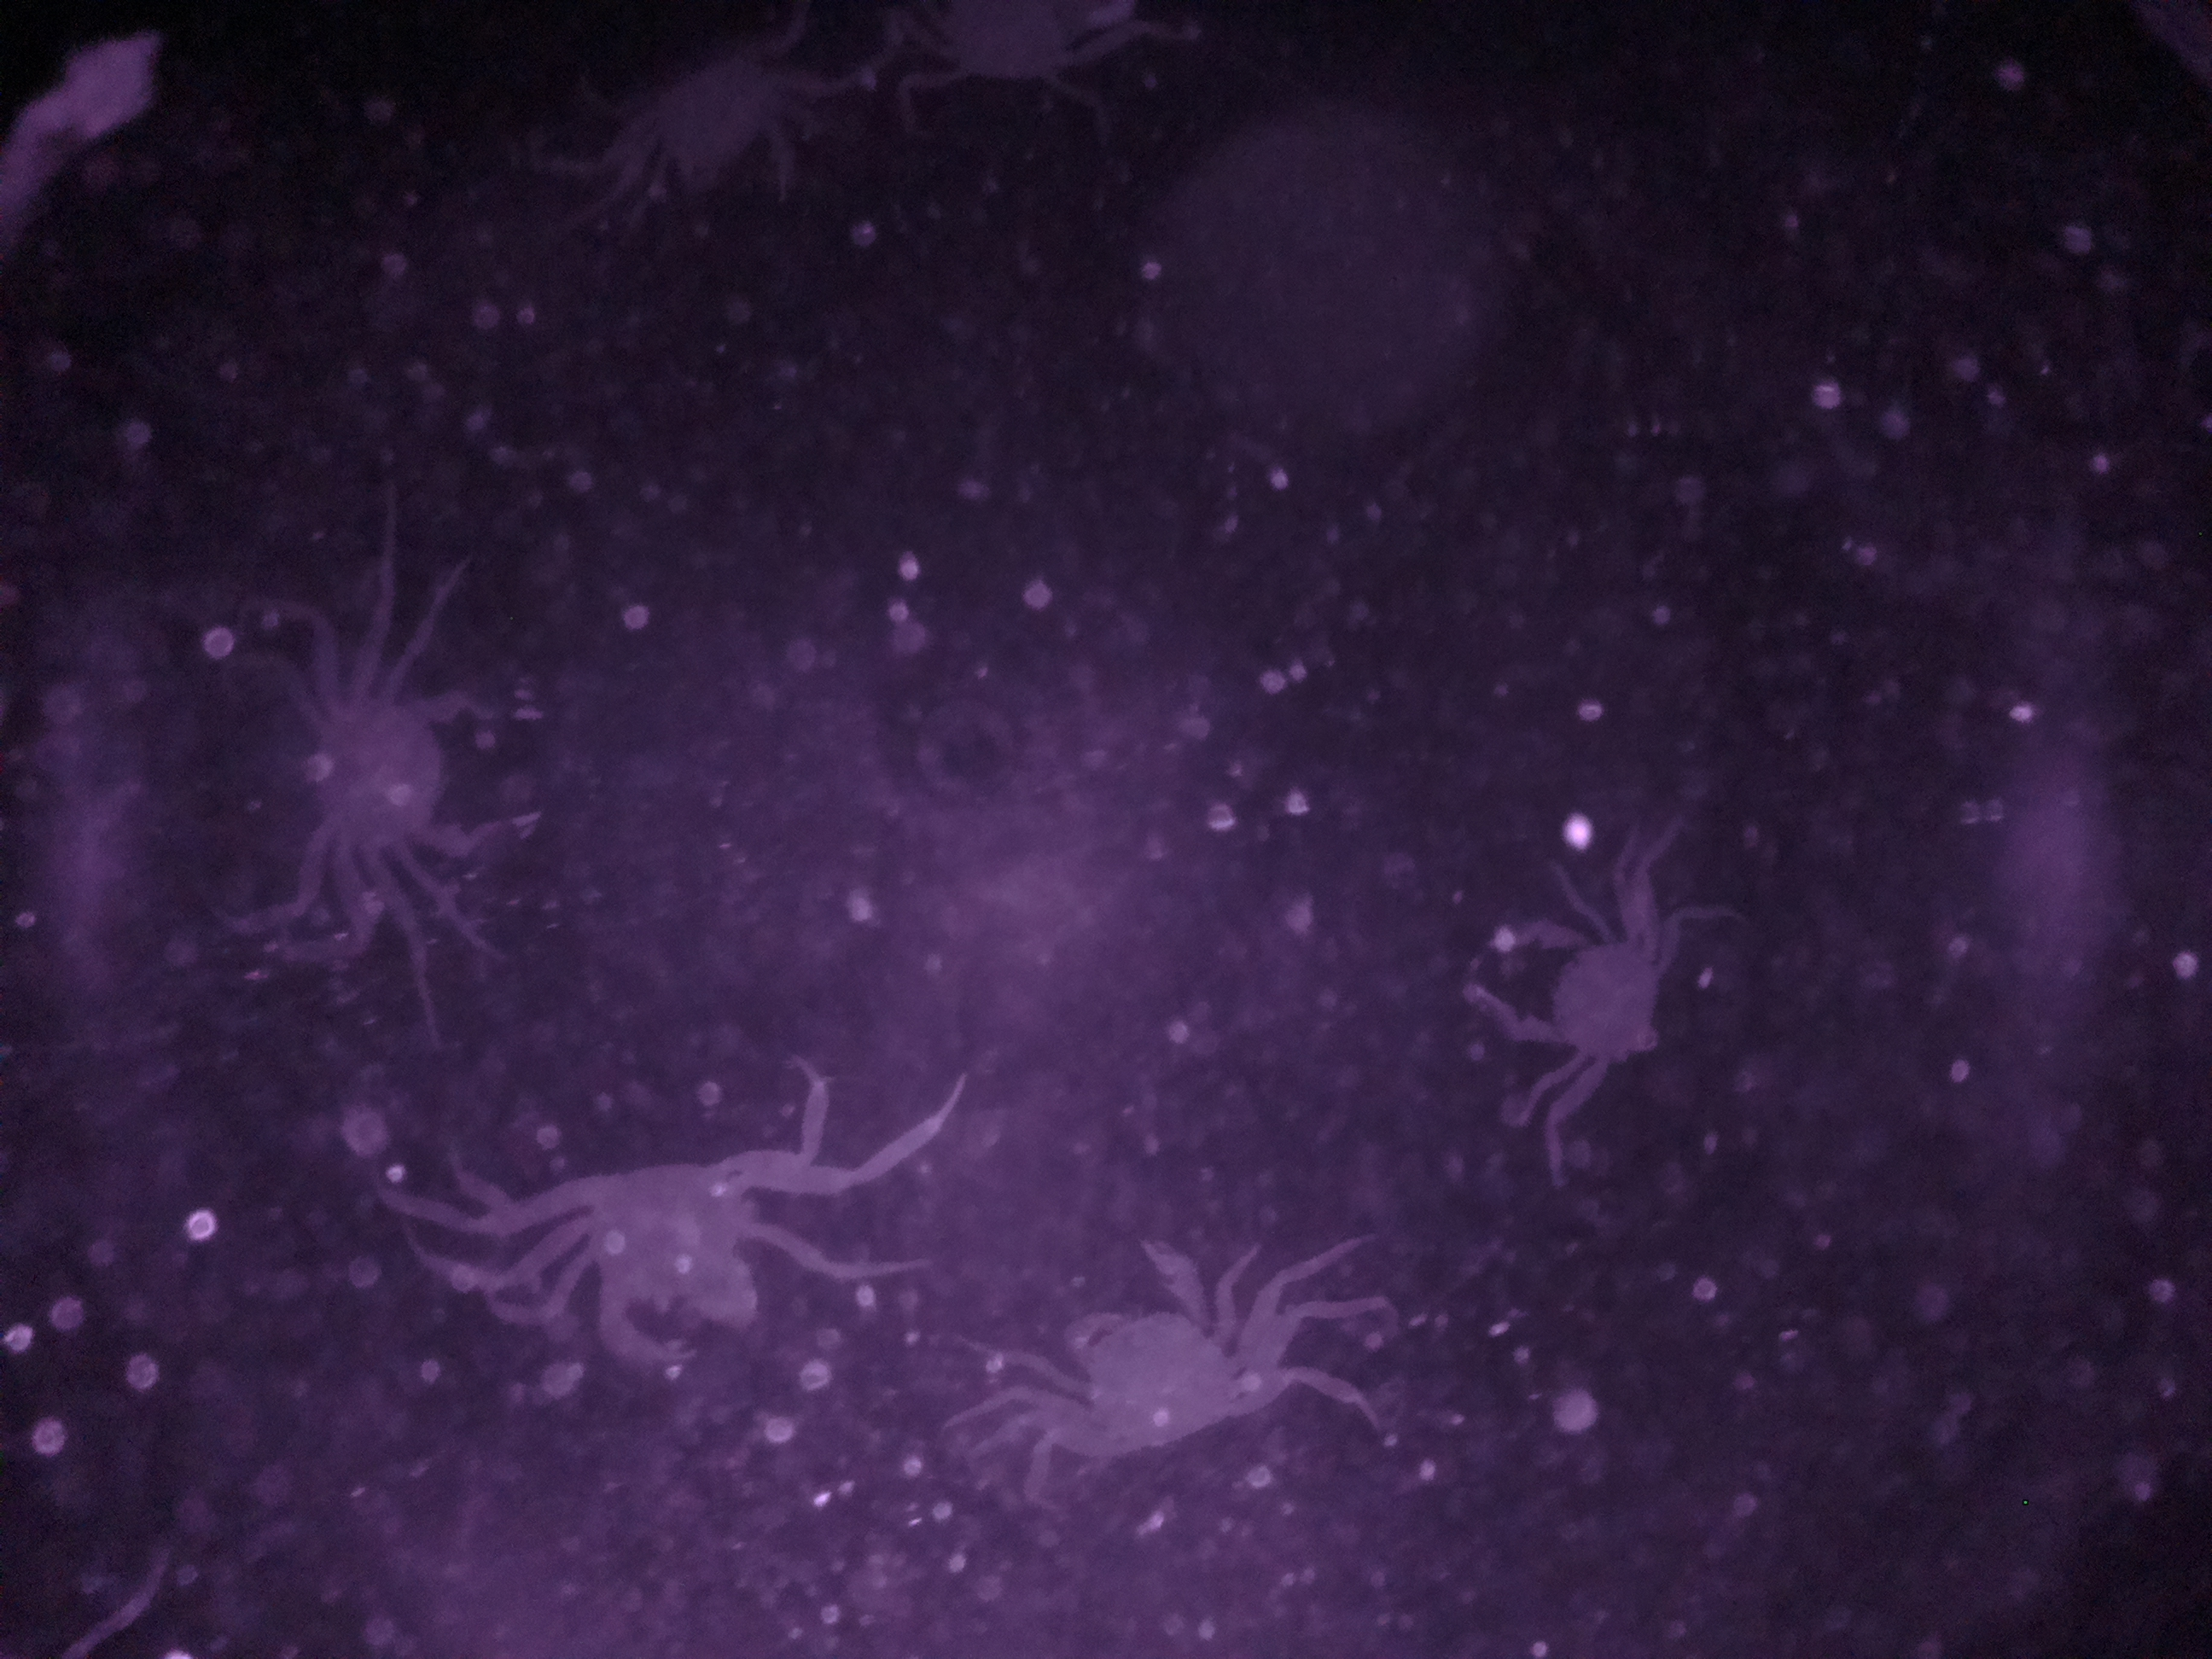Crab: (1014, 1230, 1325, 1478), (505, 1131, 792, 1399), (249, 664, 578, 896), (1433, 887, 1719, 1096)
